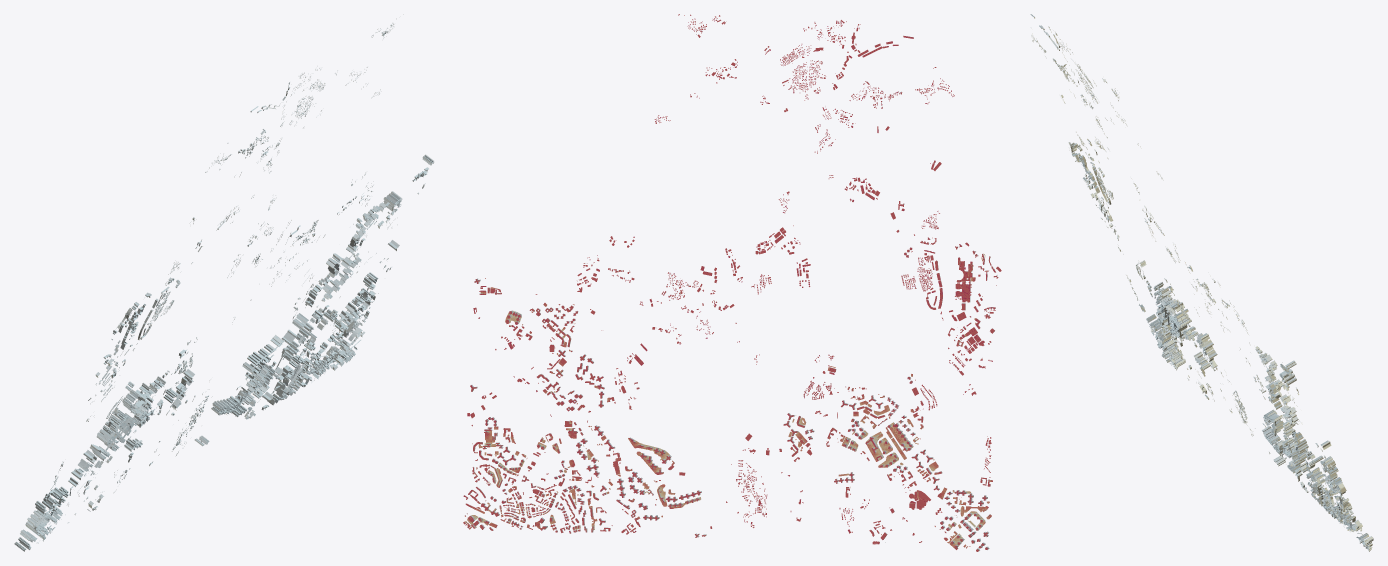
3 views of the same model, side by side, from view 1: azimuth 30°, elevation 25°; view 2: azimuth 150°, elevation 25°; view 3: azimuth 270°, elevation 25° (orthographic). The views are drawn at different scales.
Visible parts, largest first — view 1: geometry_0; view 2: geometry_0; view 3: geometry_0.
Boxes of the visible parts, box(x1,y1,x2,y2) form: geometry_0: box(14, 14, 434, 551); geometry_0: box(463, 14, 1001, 551); geometry_0: box(1030, 14, 1373, 551).
Bounding box in the file's own units: 4992 × 4646 × 3413.
